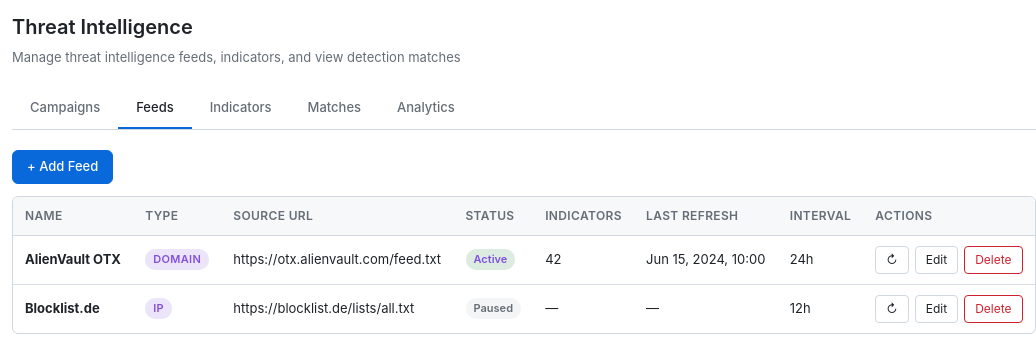
it: ThreatIntelPage › switches to Matches tab and shows metric cards
Click the tab "Matches": (334, 108) x1=290 y1=88 x2=379 y2=129
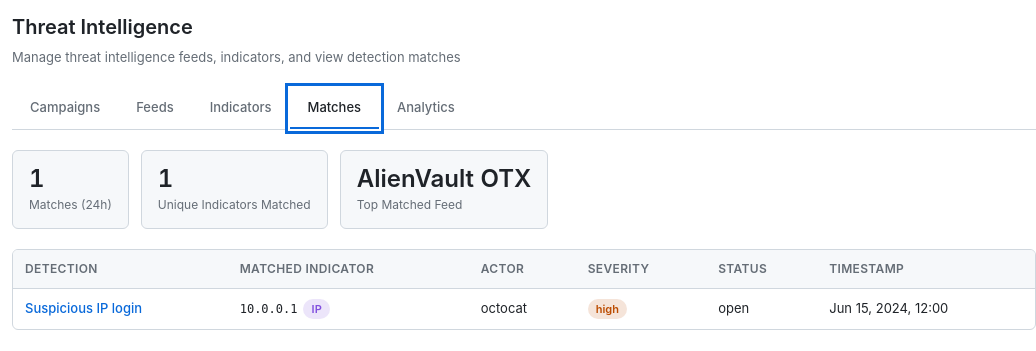
Now the text "Matches (24h)" is shown, box x1=29 y1=196 x2=112 y2=214
Now the text "Unique Indicators Matched" is shown, box x1=158 y1=196 x2=311 y2=214
Now the link "Suspicious IP login" is shown, box x1=25 y1=300 x2=142 y2=316
